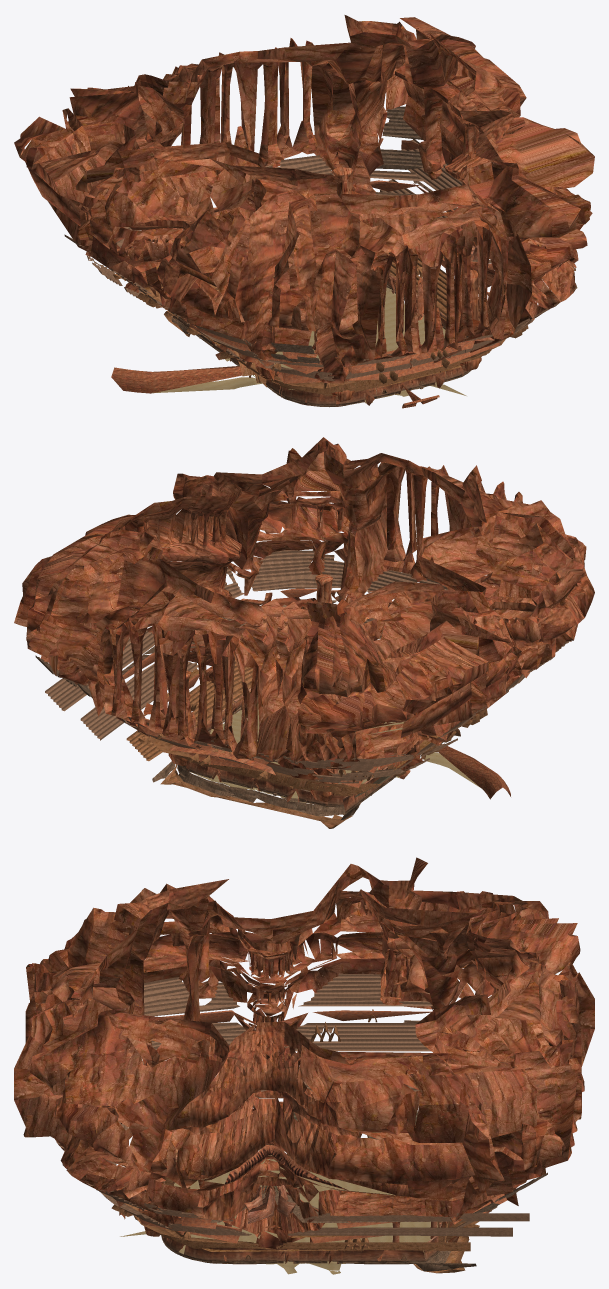
Rendered from arena.lod1.glb.
3 views of the same model, one above another, from view 1: azimuth 30°, elevation 25°; view 2: azimuth 150°, elevation 25°; view 3: azimuth 270°, elevation 25° (orthographic). The views are drawn at different scales.
Parts seen in each view (by area): view 1: TunnelSide1.001_Material.068_0, Stairs.003_Material.047_0, Floor.001_Material.204_0, RockSidingP3_Material.030_0, Floor.002_Material.002_0, Stairs.007_Material.061_0, WallsArena.041_Material.006_0, WallsArena.029_Material.013_0, WallsArena.036_Material.004_0; view 2: TunnelSide1.001_Material.068_0, Stairs.003_Material.047_0, Floor.001_Material.204_0, RockSidingP3_Material.030_0, Floor_Material.077_0, Floor.002_Material.002_0, WallsArena.041_Material.006_0, WallsArena.029_Material.013_0, WallsArena.036_Material.004_0; view 3: TunnelSide1.001_Material.068_0, Stairs.003_Material.047_0, Floor.001_Material.204_0, WallsArena.041_Material.006_0, Floor.002_Material.002_0, RockSidingP3_Material.030_0, FrontEntrance.60_Material.023_0, FrontEntrance.79_Material.020_0, Floor_Material.077_0, WallsArena.036_Material.004_0.
Part boxes in pixels (x1=…): TunnelSide1.001_Material.068_0: x1=14, y1=15, x2=594, y2=408; Stairs.003_Material.047_0: x1=64, y1=139, x2=577, y2=380; Floor.001_Material.204_0: x1=113, y1=195, x2=528, y2=396; RockSidingP3_Material.030_0: x1=131, y1=140, x2=534, y2=405; Floor.002_Material.002_0: x1=152, y1=287, x2=466, y2=405; Stairs.007_Material.061_0: x1=271, y1=106, x2=423, y2=363; WallsArena.041_Material.006_0: x1=183, y1=274, x2=471, y2=407; WallsArena.029_Material.013_0: x1=183, y1=166, x2=481, y2=401; WallsArena.036_Material.004_0: x1=221, y1=294, x2=446, y2=402; TunnelSide1.001_Material.068_0: x1=14, y1=437, x2=594, y2=799; Stairs.003_Material.047_0: x1=45, y1=550, x2=576, y2=783; Floor.001_Material.204_0: x1=126, y1=640, x2=487, y2=828; RockSidingP3_Material.030_0: x1=74, y1=588, x2=540, y2=802; Floor_Material.077_0: x1=143, y1=642, x2=359, y2=820; Floor.002_Material.002_0: x1=190, y1=698, x2=482, y2=803; WallsArena.041_Material.006_0: x1=179, y1=683, x2=443, y2=807; WallsArena.029_Material.013_0: x1=168, y1=574, x2=335, y2=801; WallsArena.036_Material.004_0: x1=207, y1=698, x2=305, y2=801; TunnelSide1.001_Material.068_0: x1=14, y1=857, x2=594, y2=1263; Stairs.003_Material.047_0: x1=56, y1=973, x2=529, y2=1236; Floor.001_Material.204_0: x1=111, y1=1009, x2=479, y2=1273; WallsArena.041_Material.006_0: x1=161, y1=1155, x2=443, y2=1264; Floor.002_Material.002_0: x1=120, y1=1148, x2=437, y2=1274; RockSidingP3_Material.030_0: x1=114, y1=1010, x2=507, y2=1243; FrontEntrance.60_Material.023_0: x1=225, y1=1145, x2=350, y2=1191; FrontEntrance.79_Material.020_0: x1=244, y1=1151, x2=296, y2=1223; Floor_Material.077_0: x1=210, y1=1189, x2=476, y2=1271; WallsArena.036_Material.004_0: x1=164, y1=1181, x2=441, y2=1263.
Bounding box in the file's own units: 149 × 77.24 × 145.
Materials: 41 (39 with a texture image).
